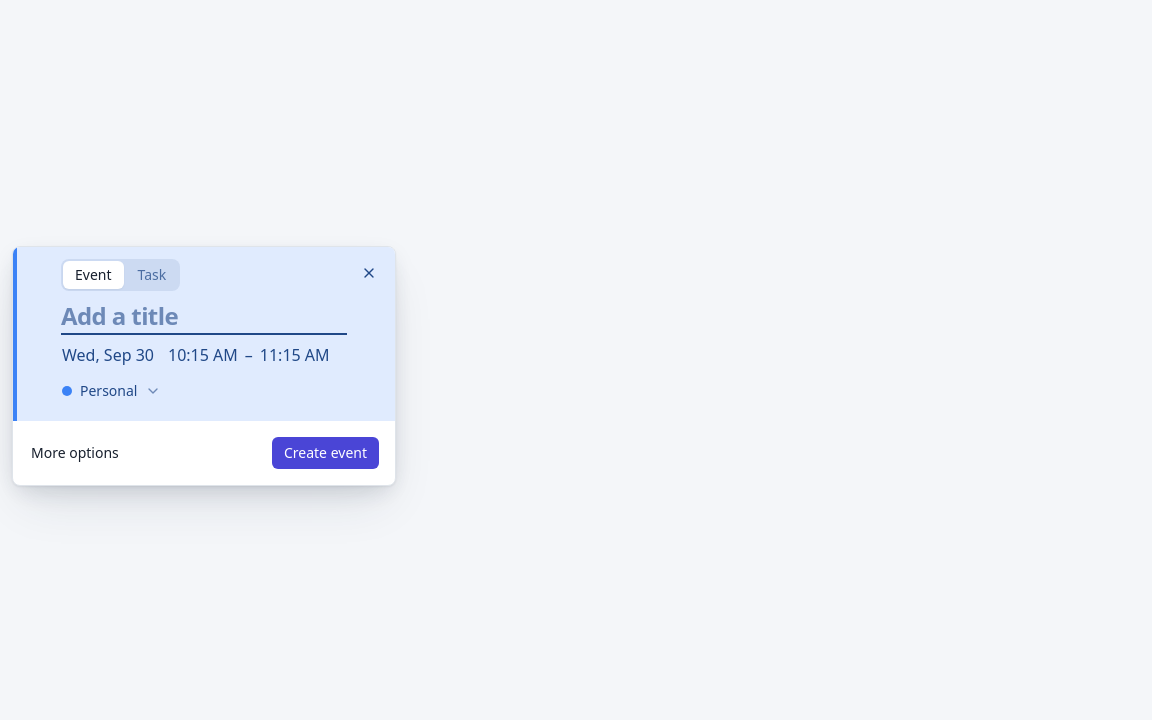
Test: CreatePopover › asks for a title before creating a task
Click the radio button labelled "Task" at (152, 275), box 126,261 -> 178,289
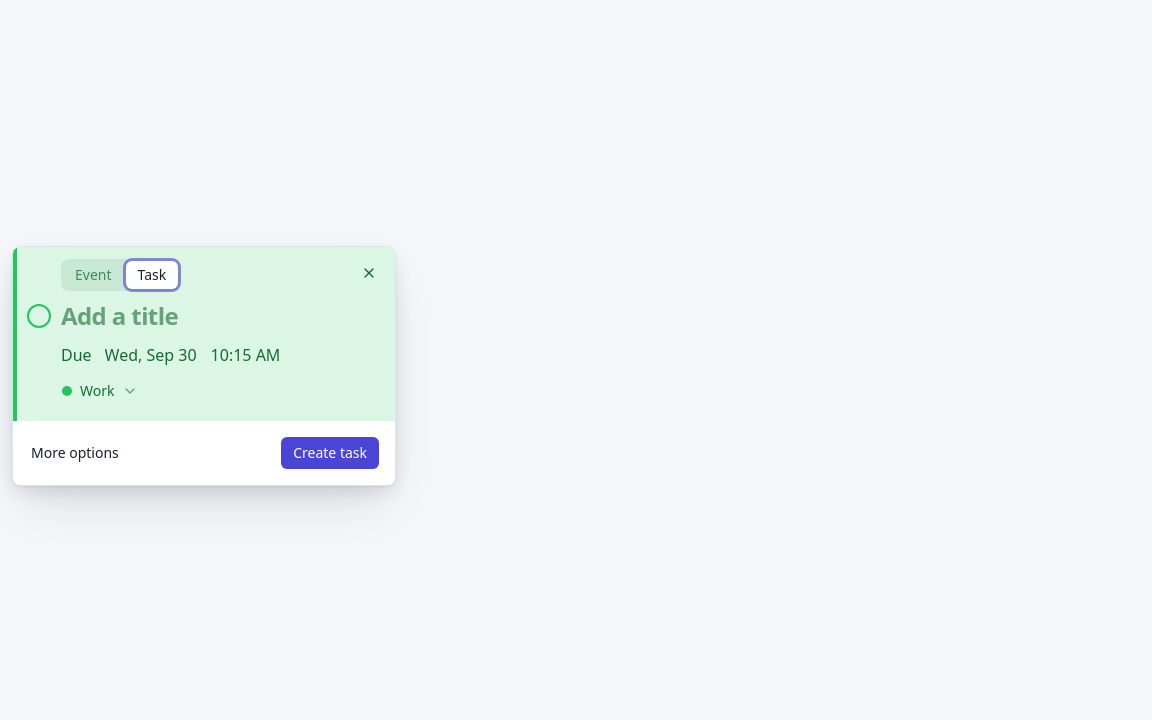
Click the button "Create task" at (330, 453), box 281,437 -> 379,469
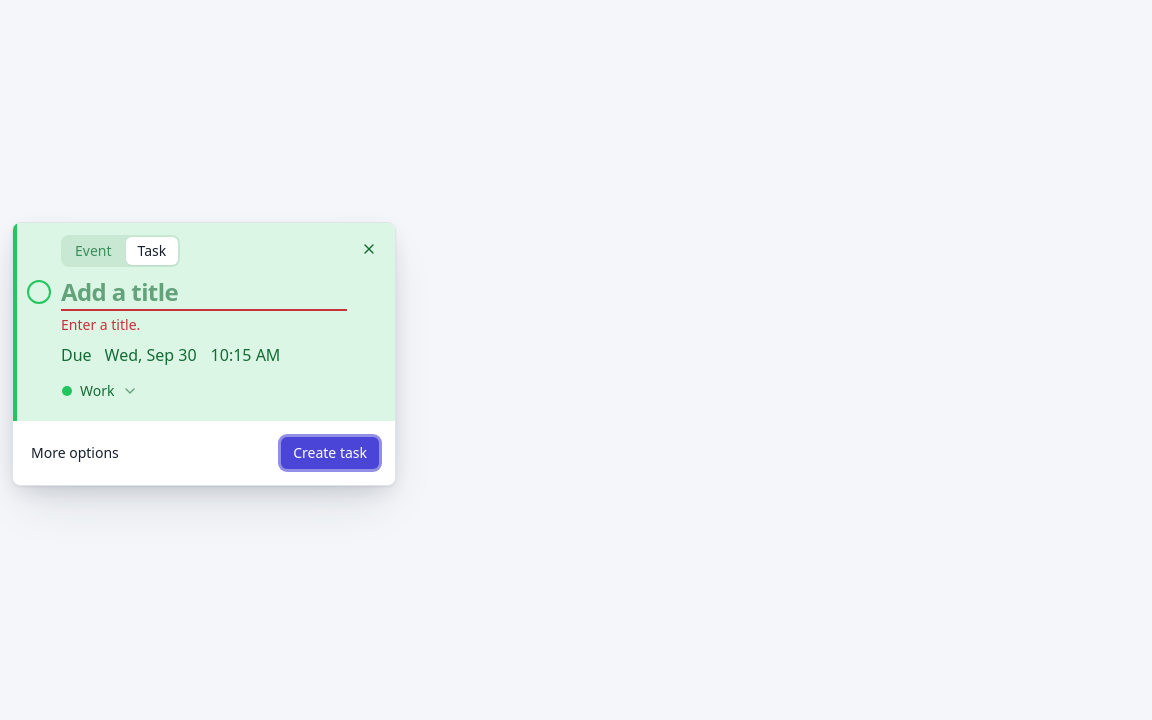
Expected: the text "Enter a title." is shown, 61,315 -> 140,334
